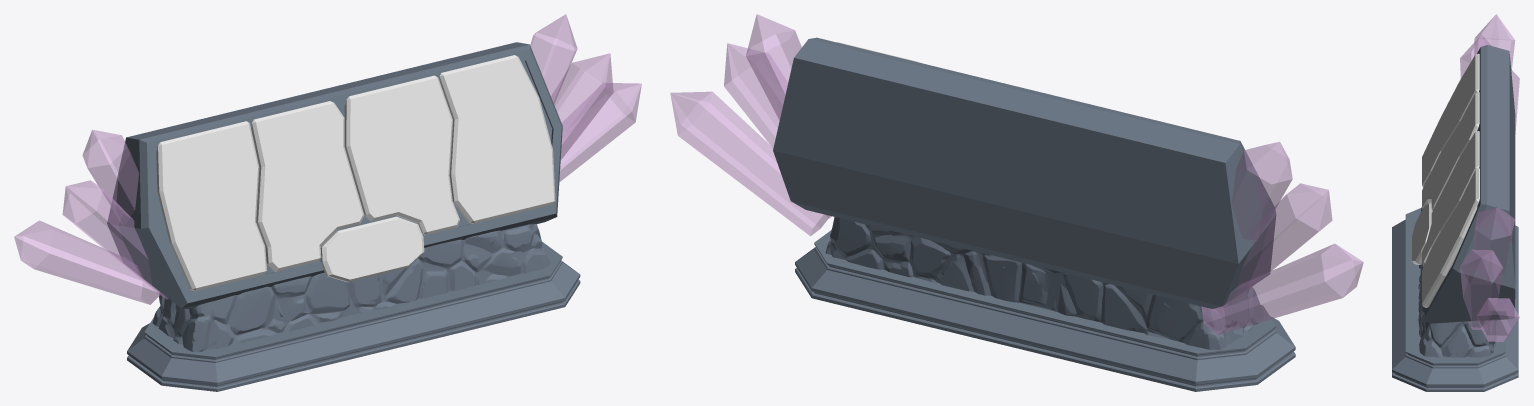
The model's file is crystalslotmachine.glb.
3 views of the same model, side by side, from view 1: azimuth 30°, elevation 25°; view 2: azimuth 150°, elevation 25°; view 3: azimuth 270°, elevation 25° (orthographic). The views are drawn at different scales.
Visible parts, largest first — view 1: Crystal, Base, Cube.005, StoneBase, Tab1-7, Tab4-R, Tab2-7, Tab3-7, Tab4-Q, Tab1-L, SpinButton, Tab3-L (+14 smaller); view 2: Cube.005, Crystal, Base, StoneBase; view 3: Cube.005, Base, Crystal, StoneBase, Tab4-R, Tab1-7, Tab2-7, Tab3-7, Tab1-L, SpinButton, Tab4-Q, Tab2-Q (+13 smaller).
Boxes of the visible parts, x1,y1,x2,y2 form: Crystal: (14, 14, 641, 304); Base: (127, 241, 580, 391); Cube.005: (107, 42, 562, 308); StoneBase: (152, 224, 550, 351); Tab1-7: (156, 121, 267, 291); Tab4-R: (439, 55, 555, 223); Tab2-7: (251, 101, 364, 271); Tab3-7: (344, 75, 459, 234); Tab4-Q: (444, 58, 552, 199); Tab1-L: (162, 124, 257, 264); SpinButton: (320, 216, 424, 282); Tab3-L: (350, 79, 449, 213); Cube.005: (773, 37, 1275, 308); Crystal: (670, 14, 1363, 335); Base: (795, 230, 1295, 391); StoneBase: (825, 217, 1263, 354); Cube.005: (1424, 45, 1515, 323); Base: (1392, 208, 1518, 391); Crystal: (1460, 14, 1519, 341); StoneBase: (1418, 207, 1495, 357); Tab4-R: (1422, 168, 1479, 307); Tab1-7: (1422, 53, 1479, 186); Tab2-7: (1422, 92, 1479, 210); Tab3-7: (1422, 131, 1479, 266); Tab1-L: (1431, 57, 1475, 149); SpinButton: (1412, 203, 1432, 264); Tab4-Q: (1430, 173, 1475, 287); Tab2-Q: (1431, 111, 1474, 205).
Size of the model in its own units: 12.19 by 4.33 by 2.56.
